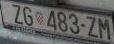-: (81, 24, 85, 27)
3: (69, 12, 80, 35)
4: (47, 10, 57, 30)
8: (58, 11, 68, 32)
G: (23, 7, 32, 27)
M: (99, 18, 110, 40)
Z: (86, 16, 98, 38), (12, 4, 23, 24)
